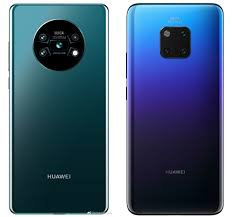huawei: (121, 1, 228, 217), (5, 1, 112, 215)
